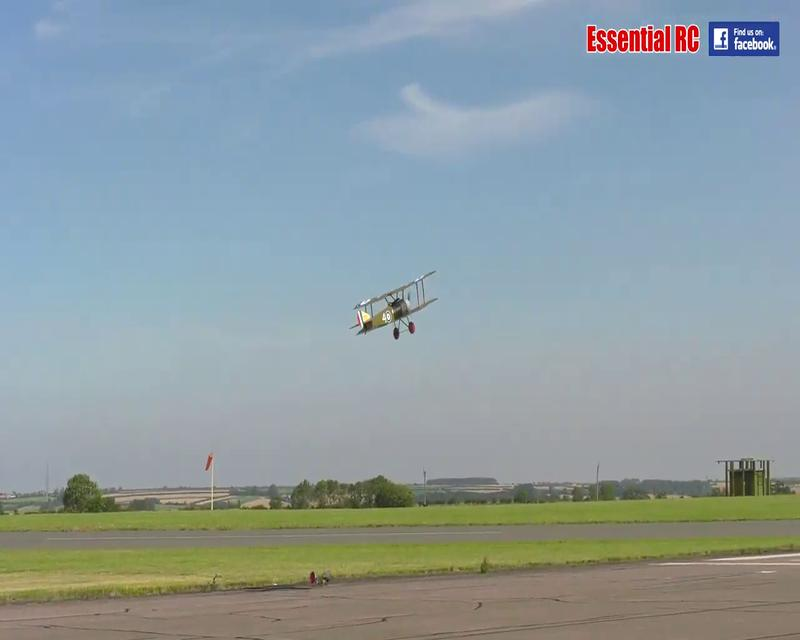UAV: (348, 269, 438, 340)
